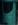cylinder: (1, 0, 18, 25)
